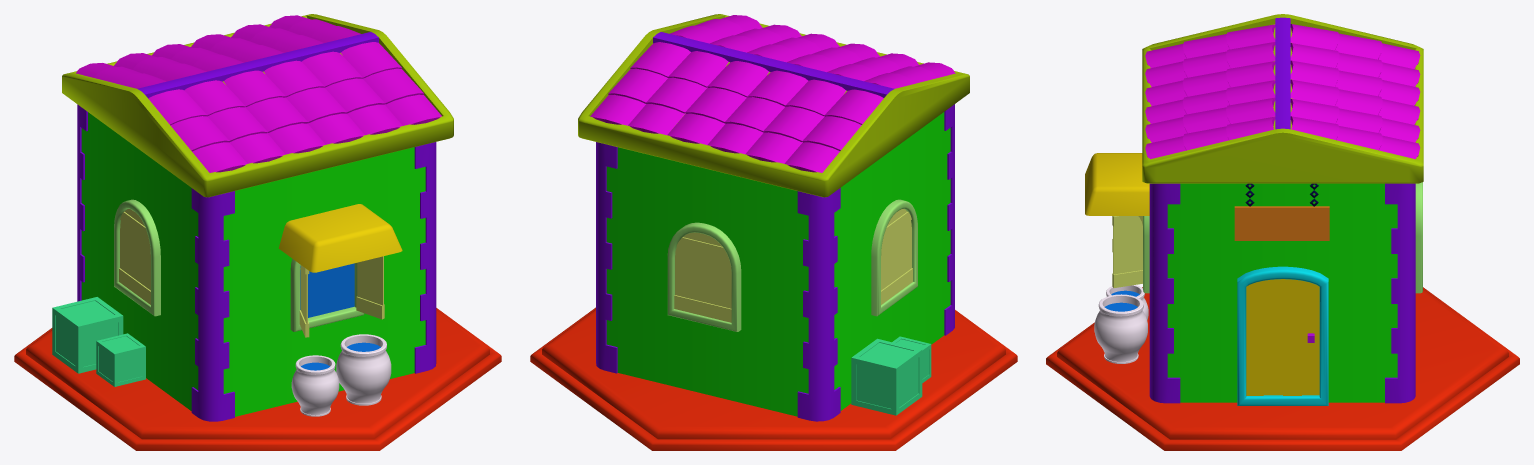
File: ShopLvl3.fbx
The picture shows the model from 3 angles, left to right: view 1: azimuth 30°, elevation 25°; view 2: azimuth 150°, elevation 25°; view 3: azimuth 270°, elevation 25°; orthographic projection. The views are drawn at different scales.
Visible parts, largest first — view 1: Building, Tiles, Base, Roof, Box, Plane, Flowerpot; view 2: Building, Tiles, Base, Roof, Box; view 3: Building, Tiles, Base, Roof, Plane, WoodSign, Flowerpot.
Boxes of the visible parts, bbox=[...] form: Building: bbox=[77, 104, 436, 421]; Tiles: bbox=[76, 15, 441, 172]; Base: bbox=[14, 308, 501, 450]; Roof: bbox=[62, 14, 453, 197]; Box: bbox=[52, 297, 145, 386]; Plane: bbox=[278, 204, 402, 272]; Flowerpot: bbox=[291, 334, 391, 416]; Building: bbox=[596, 104, 954, 421]; Tiles: bbox=[590, 15, 955, 172]; Base: bbox=[530, 307, 1017, 450]; Roof: bbox=[578, 14, 969, 197]; Box: bbox=[851, 336, 931, 415]; Building: bbox=[1112, 182, 1422, 405]; Tiles: bbox=[1145, 24, 1420, 159]; Base: bbox=[1046, 287, 1519, 450]; Roof: bbox=[1142, 14, 1423, 183]; Plane: bbox=[1085, 153, 1149, 215]; WoodSign: bbox=[1234, 183, 1329, 240]; Flowerpot: bbox=[1094, 285, 1148, 363].
Bounding box in the file's own units: 327 × 256 × 377.
